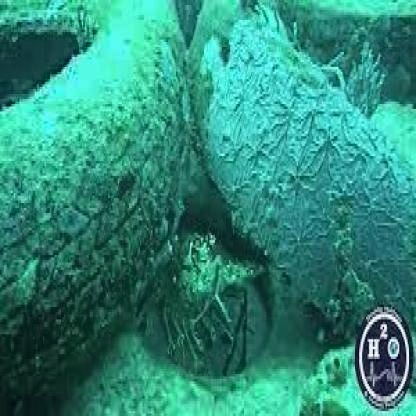tire: (186, 7, 416, 346), (2, 3, 194, 408)
